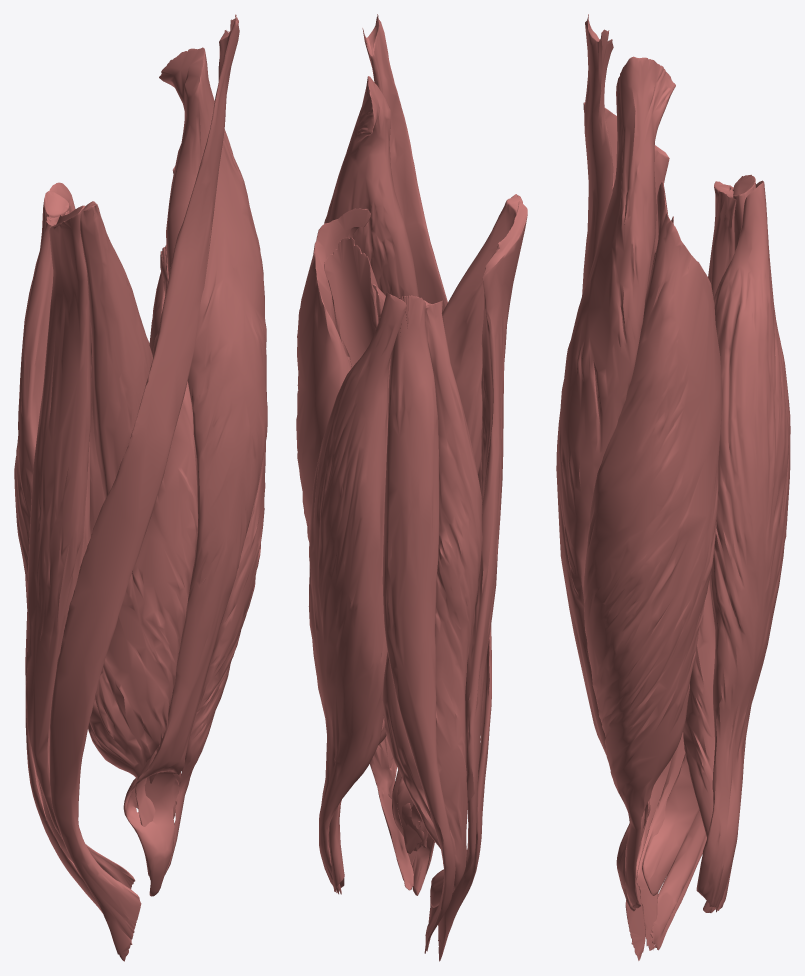
Rendered from muscular-thigh-left.glb.
3 views of the same model, side by side, from view 1: azimuth 30°, elevation 25°; view 2: azimuth 150°, elevation 25°; view 3: azimuth 270°, elevation 25° (orthographic). The views are drawn at different scales.
Parts seen in each view (by area): view 1: bp3d_FMA38929_FJ1433M, bp3d_FMA22355_FJ1434M, bp3d_FMA43884_FJ1421M, bp3d_FMA38933_FJ1443M, bp3d_FMA22457_FJ1402M, bp3d_FMA22449_FJ1435M, bp3d_FMA38931_FJ1442M, bp3d_FMA22359_FJ1436M, bp3d_FMA45889_FJ1395M; view 2: bp3d_FMA45889_FJ1395M, bp3d_FMA22359_FJ1436M, bp3d_FMA22449_FJ1435M, bp3d_FMA43884_FJ1421M, bp3d_FMA38931_FJ1442M, bp3d_FMA38929_FJ1433M, bp3d_FMA22355_FJ1434M, bp3d_FMA22457_FJ1402M, bp3d_FMA38935_FJ1441M, bp3d_FMA38933_FJ1443M, bp3d_FMA45892_FJ1444M; view 3: bp3d_FMA38931_FJ1442M, bp3d_FMA45889_FJ1395M, bp3d_FMA38929_FJ1433M, bp3d_FMA22355_FJ1434M, bp3d_FMA22449_FJ1435M, bp3d_FMA45892_FJ1444M, bp3d_FMA22359_FJ1436M, bp3d_FMA43884_FJ1421M.
Boxes of the visible parts, x1,y1,x2,y2 form: bp3d_FMA38929_FJ1433M: (123, 47, 267, 896); bp3d_FMA22355_FJ1434M: (49, 14, 239, 961); bp3d_FMA43884_FJ1421M: (25, 205, 135, 888); bp3d_FMA38933_FJ1443M: (88, 244, 198, 826); bp3d_FMA22457_FJ1402M: (80, 201, 152, 499); bp3d_FMA22449_FJ1435M: (14, 210, 90, 862); bp3d_FMA38931_FJ1442M: (149, 166, 265, 874); bp3d_FMA22359_FJ1436M: (22, 191, 102, 912); bp3d_FMA45889_FJ1395M: (49, 182, 174, 818); bp3d_FMA45889_FJ1395M: (308, 292, 406, 894); bp3d_FMA22359_FJ1436M: (382, 295, 455, 953); bp3d_FMA22449_FJ1435M: (382, 300, 482, 907); bp3d_FMA43884_FJ1421M: (427, 201, 527, 951); bp3d_FMA38931_FJ1442M: (296, 208, 413, 890); bp3d_FMA38929_FJ1433M: (324, 76, 434, 895); bp3d_FMA22355_FJ1434M: (362, 14, 491, 961); bp3d_FMA22457_FJ1402M: (442, 194, 522, 474); bp3d_FMA38935_FJ1441M: (324, 237, 426, 851); bp3d_FMA38933_FJ1443M: (372, 284, 481, 853); bp3d_FMA45892_FJ1444M: (328, 716, 386, 891); bp3d_FMA38931_FJ1442M: (583, 181, 722, 908); bp3d_FMA45889_FJ1395M: (696, 180, 790, 912); bp3d_FMA38929_FJ1433M: (556, 56, 675, 911); bp3d_FMA22355_FJ1434M: (582, 14, 671, 960); bp3d_FMA22449_FJ1435M: (642, 181, 736, 895); bp3d_FMA45892_FJ1444M: (683, 579, 731, 912); bp3d_FMA22359_FJ1436M: (650, 174, 755, 950); bp3d_FMA43884_FJ1421M: (604, 108, 684, 950).
Bounding box in the file's own units: 0.1476 × 0.6276 × 0.1342.
